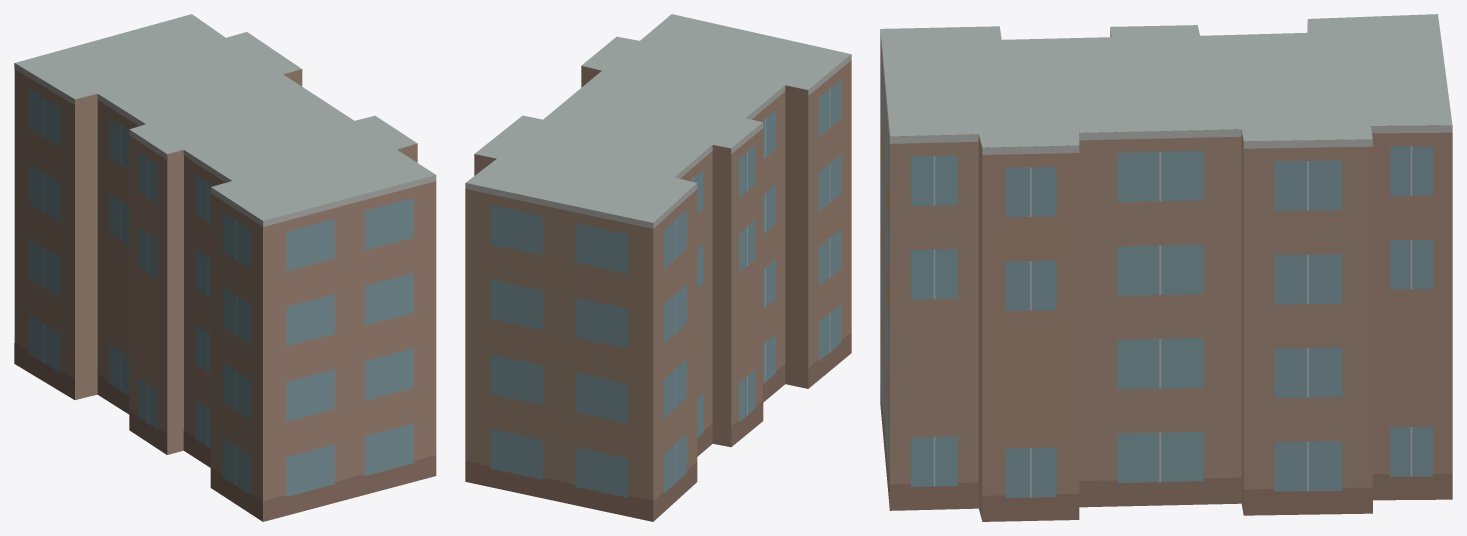
The model's file is survey-upis-32730900.glb.
The picture shows the model from 3 angles, left to right: view 1: azimuth 30°, elevation 25°; view 2: azimuth 150°, elevation 25°; view 3: azimuth 270°, elevation 25°; orthographic projection. The views are drawn at different scales.
Visible parts, largest first — view 1: survey-upis-32730900.tmp; view 2: survey-upis-32730900.tmp; view 3: survey-upis-32730900.tmp.
Boxes of the visible parts, x1,y1,x2,y2 form: survey-upis-32730900.tmp: [14, 14, 436, 521]; survey-upis-32730900.tmp: [465, 14, 851, 521]; survey-upis-32730900.tmp: [880, 14, 1452, 521].
Size of the model in its own units: 9.34 by 12.2 by 16.91.
